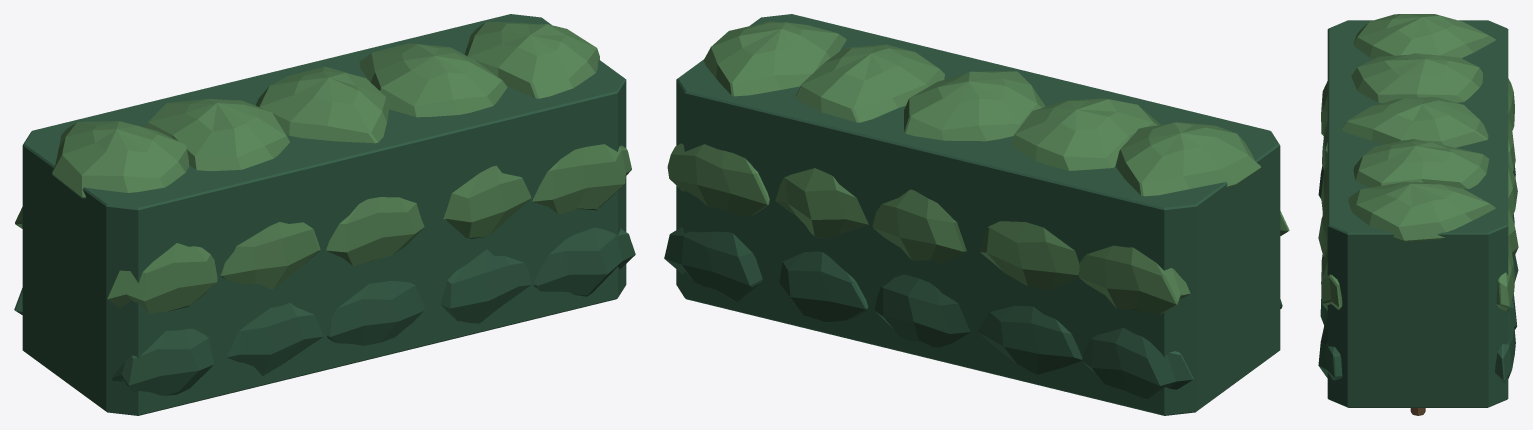
The model's file is b08_clipped_yew_hedge.glb.
3 views of the same model, side by side, from view 1: azimuth 30°, elevation 25°; view 2: azimuth 150°, elevation 25°; view 3: azimuth 270°, elevation 25° (orthographic). The views are drawn at different scales.
Parts seen in each view (by area): view 1: b08_clipped_yew_hedge; view 2: b08_clipped_yew_hedge; view 3: b08_clipped_yew_hedge.
Boxes of the visible parts, <box> form: b08_clipped_yew_hedge: <box>14,14,635,415</box>; b08_clipped_yew_hedge: <box>664,14,1289,415</box>; b08_clipped_yew_hedge: <box>1318,14,1518,415</box>.
Size of the model in its own units: 2.87 by 1.39 by 1.11.
